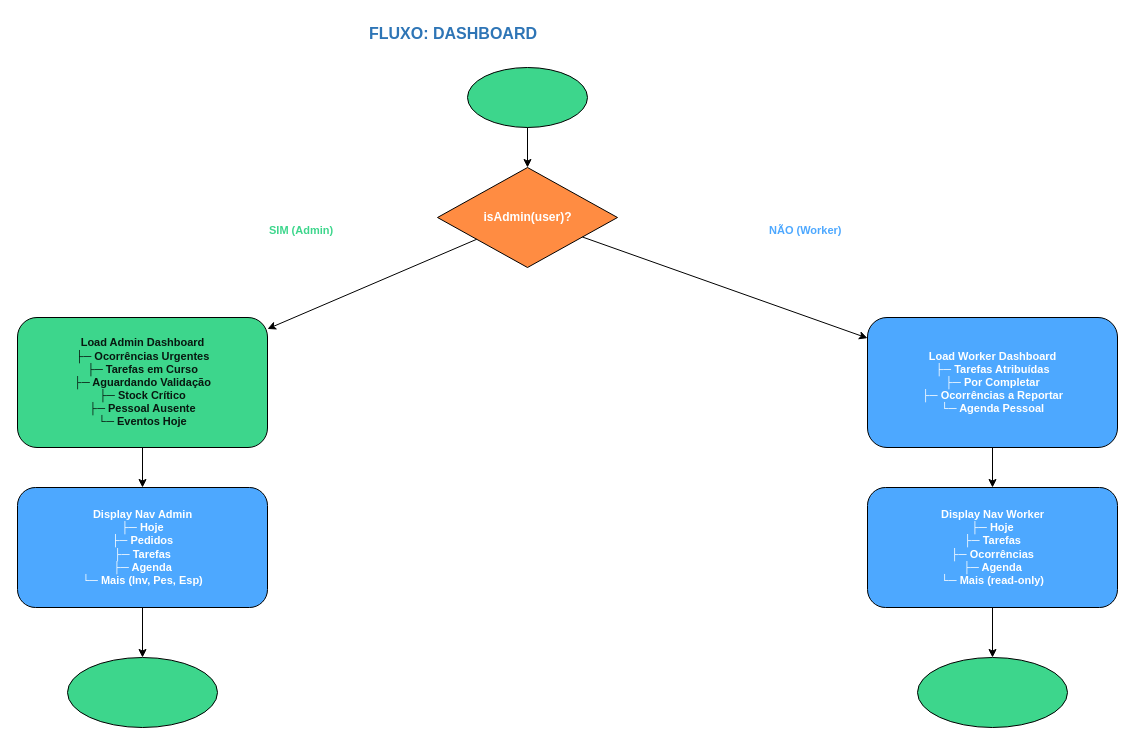
Some shapes in this 1135 by 745 pixel diagram are drawn without their labels. The shapes that lost their labels are listed below. From the top down, each one's centre as x and y in pixels, then its label:
At (527,97): "User Login ✓".
At (142,692): "Admin Ready ✓".
At (992,692): "Worker Ready ✓".
